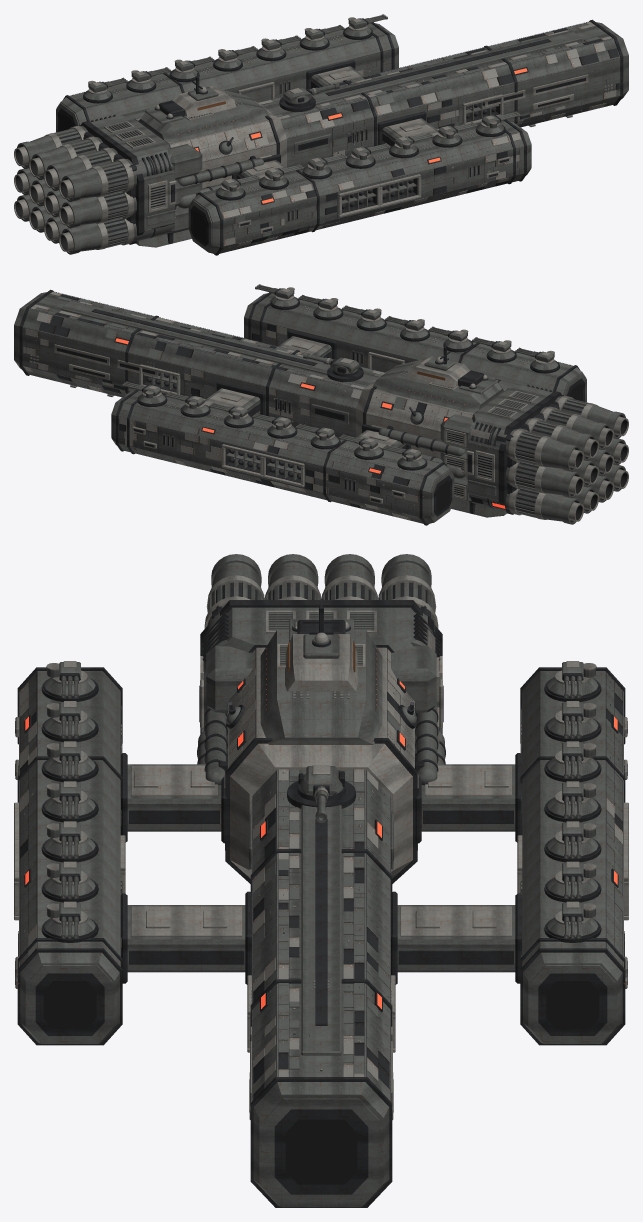
File: 機戰風.glb
The picture shows the model from 3 angles, top to bottom: view 1: azimuth 30°, elevation 25°; view 2: azimuth 150°, elevation 25°; view 3: azimuth 270°, elevation 25°; orthographic projection. The views are drawn at different scales.
Parts seen in each view (by area): view 1: pontoons_pont_mid, hull_hull_mid, citadel_mid, pontoons_dark, citadel_light, engines.thruster.003, hull_mid, engines_mid, hull_dark, engines.thruster.011, engines.thruster.007, engines_dark (+33 smaller); view 2: pontoons_pont_mid, hull_hull_mid, citadel_mid, pontoons_dark, citadel_light, engines.thruster.002, hull_mid, engines_mid, hull_dark, engines.thruster.010, engines.thruster.006, engines_dark (+33 smaller); view 3: pontoons_pont_mid, hull_hull_mid, pontoons_dark, pontoons_mid, citadel_light, citadel_mid, hull_mid, pontoons_light, hull_dark, engines.thruster.002, engines.thruster.003, engines_mid (+22 smaller).
Boxes of the visible parts, left/top/right/bottom form: pontoons_pont_mid: left=57, top=23, right=531, bottom=253; hull_hull_mid: left=259, top=21, right=628, bottom=167; citadel_mid: left=135, top=87, right=270, bottom=247; pontoons_dark: left=58, top=22, right=526, bottom=255; citadel_light: left=136, top=86, right=286, bottom=188; engines.thruster.003: left=59, top=144, right=202, bottom=201; hull_mid: left=294, top=30, right=582, bottom=154; engines_mid: left=82, top=115, right=176, bottom=240; hull_dark: left=298, top=19, right=623, bottom=150; engines.thruster.011: left=59, top=206, right=188, bottom=254; engines.thruster.007: left=59, top=179, right=202, bottom=228; engines_dark: left=79, top=114, right=175, bottom=244; pontoons_pont_mid: left=111, top=293, right=585, bottom=523; hull_hull_mid: left=14, top=291, right=383, bottom=437; citadel_mid: left=372, top=357, right=507, bottom=517; pontoons_dark: left=116, top=292, right=584, bottom=525; citadel_light: left=356, top=356, right=506, bottom=458; engines.thruster.002: left=440, top=414, right=583, bottom=471; hull_mid: left=60, top=300, right=348, bottom=424; engines_mid: left=466, top=385, right=560, bottom=510; hull_dark: left=19, top=289, right=344, bottom=420; engines.thruster.010: left=454, top=476, right=583, bottom=524; engines.thruster.006: left=440, top=449, right=583, bottom=498; engines_dark: left=467, top=384, right=563, bottom=514; pontoons_pont_mid: left=19, top=671, right=623, bottom=1043; hull_hull_mid: left=252, top=770, right=390, bottom=1207; pontoons_dark: left=15, top=667, right=627, bottom=1045; pontoons_mid: left=18, top=724, right=624, bottom=1042; citadel_light: left=224, top=634, right=418, bottom=878; citadel_mid: left=198, top=619, right=444, bottom=850; hull_mid: left=249, top=805, right=393, bottom=1204; pontoons_light: left=15, top=717, right=627, bottom=988; hull_dark: left=245, top=819, right=397, bottom=1207; engines.thruster.002: left=378, top=554, right=439, bottom=713; engines.thruster.003: left=204, top=554, right=264, bottom=713; engines_mid: left=200, top=607, right=442, bottom=733.
Size of the model in its own units: 1000 by 256 by 491.
7 materials, 4 textured.
